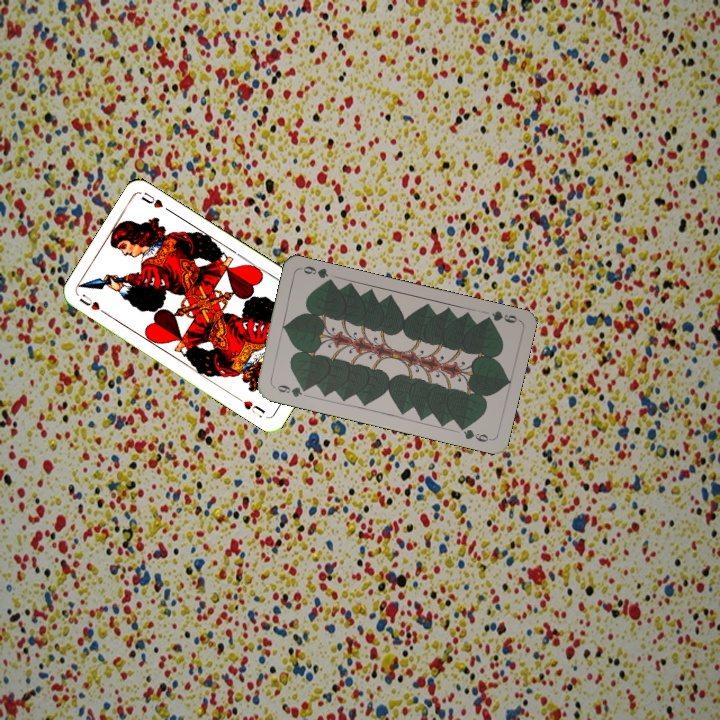G9: (269, 381, 311, 400), (479, 307, 521, 326)
HU: (75, 290, 111, 318)
